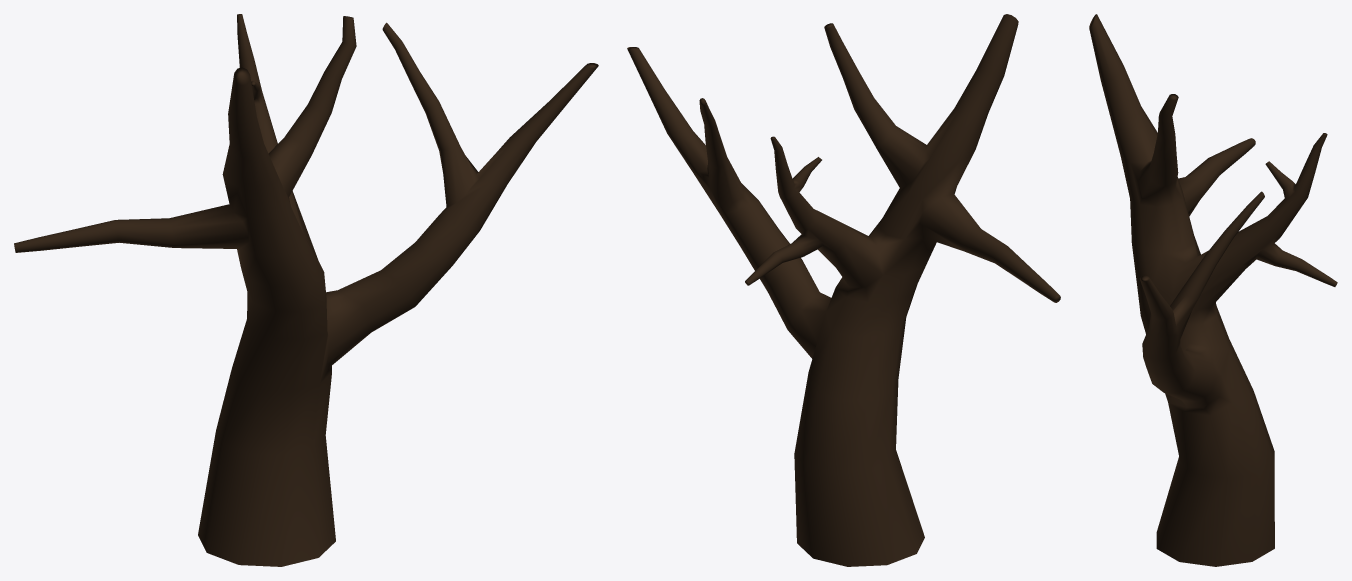
The model's file is Arbol.fbx.
3 views of the same model, side by side, from view 1: azimuth 30°, elevation 25°; view 2: azimuth 150°, elevation 25°; view 3: azimuth 270°, elevation 25° (orthographic). The views are drawn at different scales.
Visible parts, largest first — view 1: pCylinder16; view 2: pCylinder16; view 3: pCylinder16.
Part boxes in pixels (<box>): pCylinder16: <box>14,14,598,566</box>; pCylinder16: <box>627,14,1060,566</box>; pCylinder16: <box>1089,14,1337,566</box>.
Bounding box in the file's own units: 11.09 × 10.93 × 5.08.
